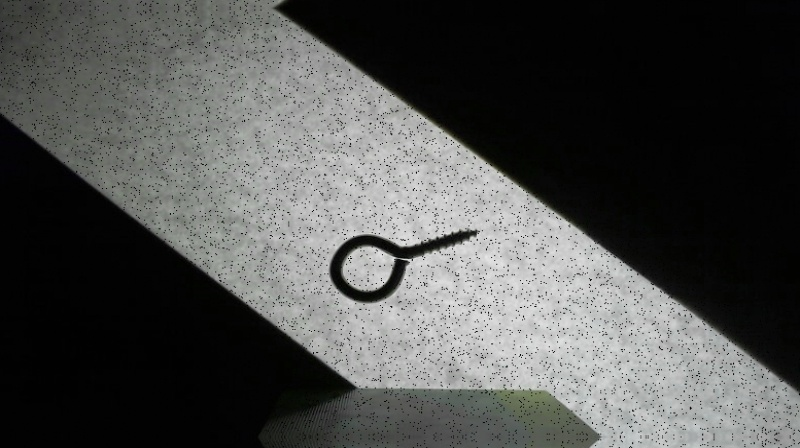O001: (324, 225, 481, 304)
